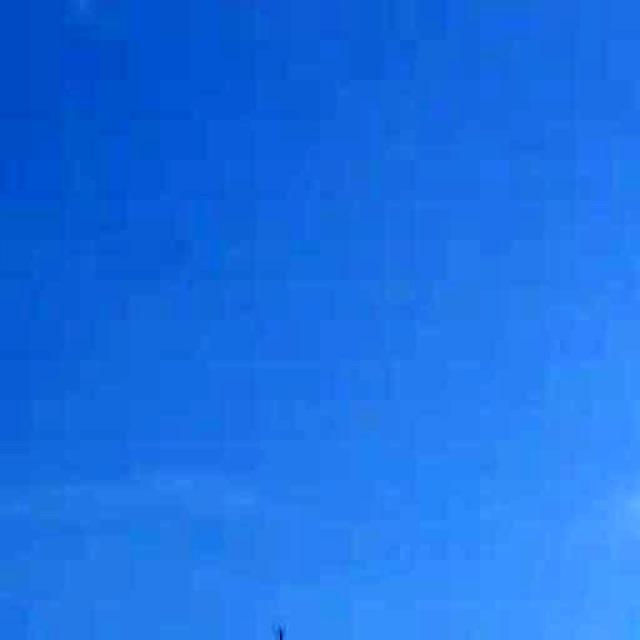drone: (258, 605, 300, 640)
